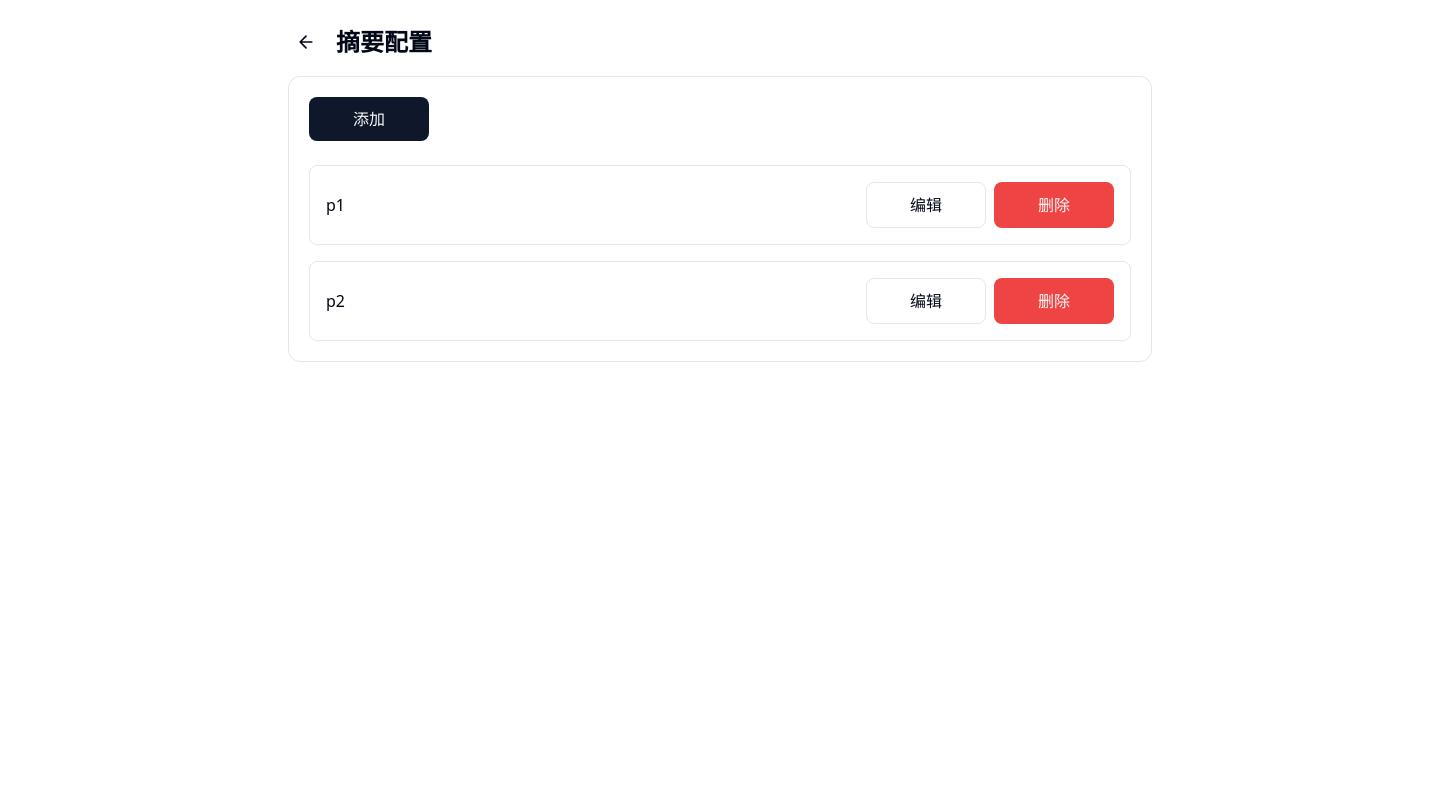
Summary profile management interaction (S014) › Happy path › users can delete profile and it disappears from list
Expected: the text "p1" is shown, [326,193,345,217]
Step 1. Click the button "删除" in the row of "p1" → [1054, 205], box [994,182,1114,228]
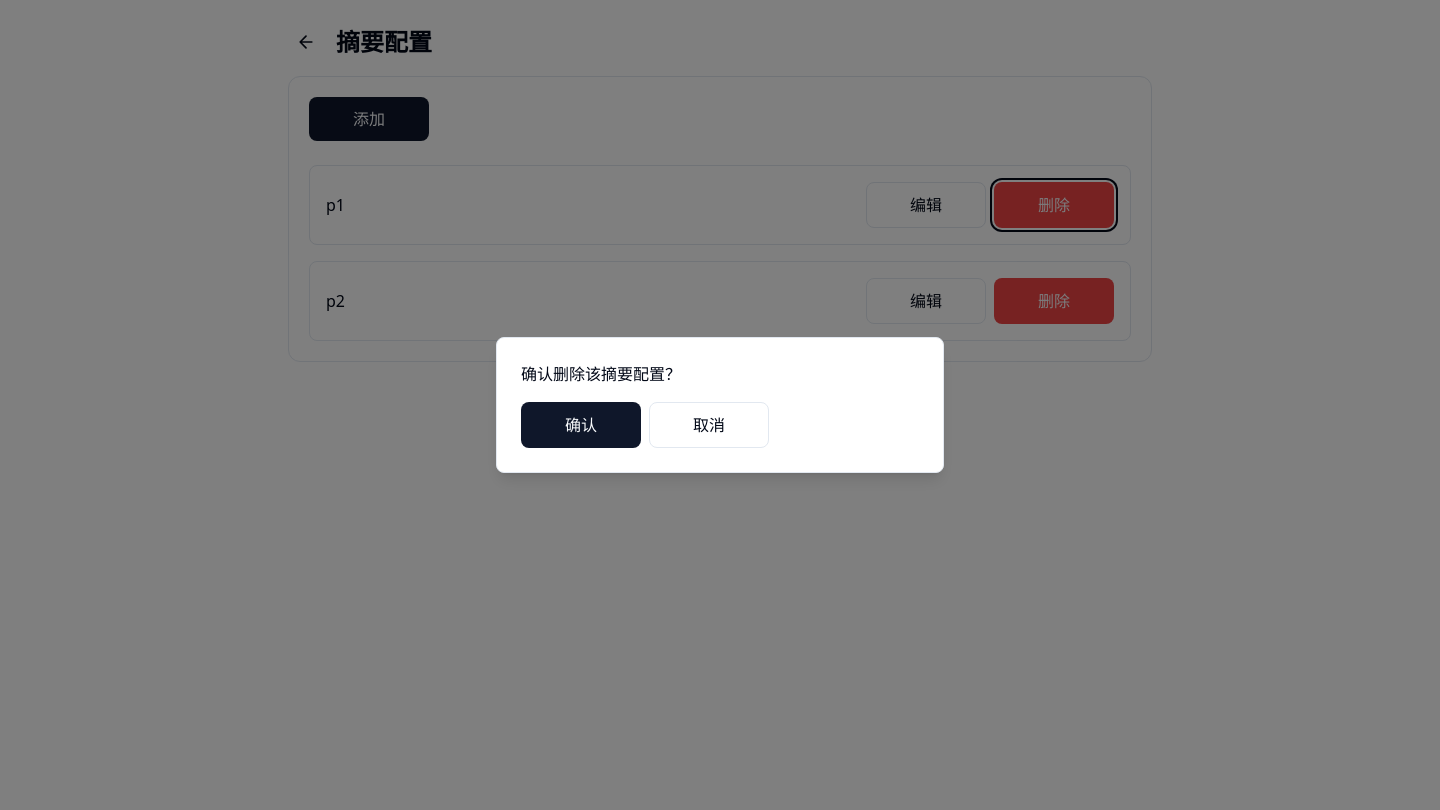
Step 2. Click the button "确认" → [581, 425], box [521,402,641,448]
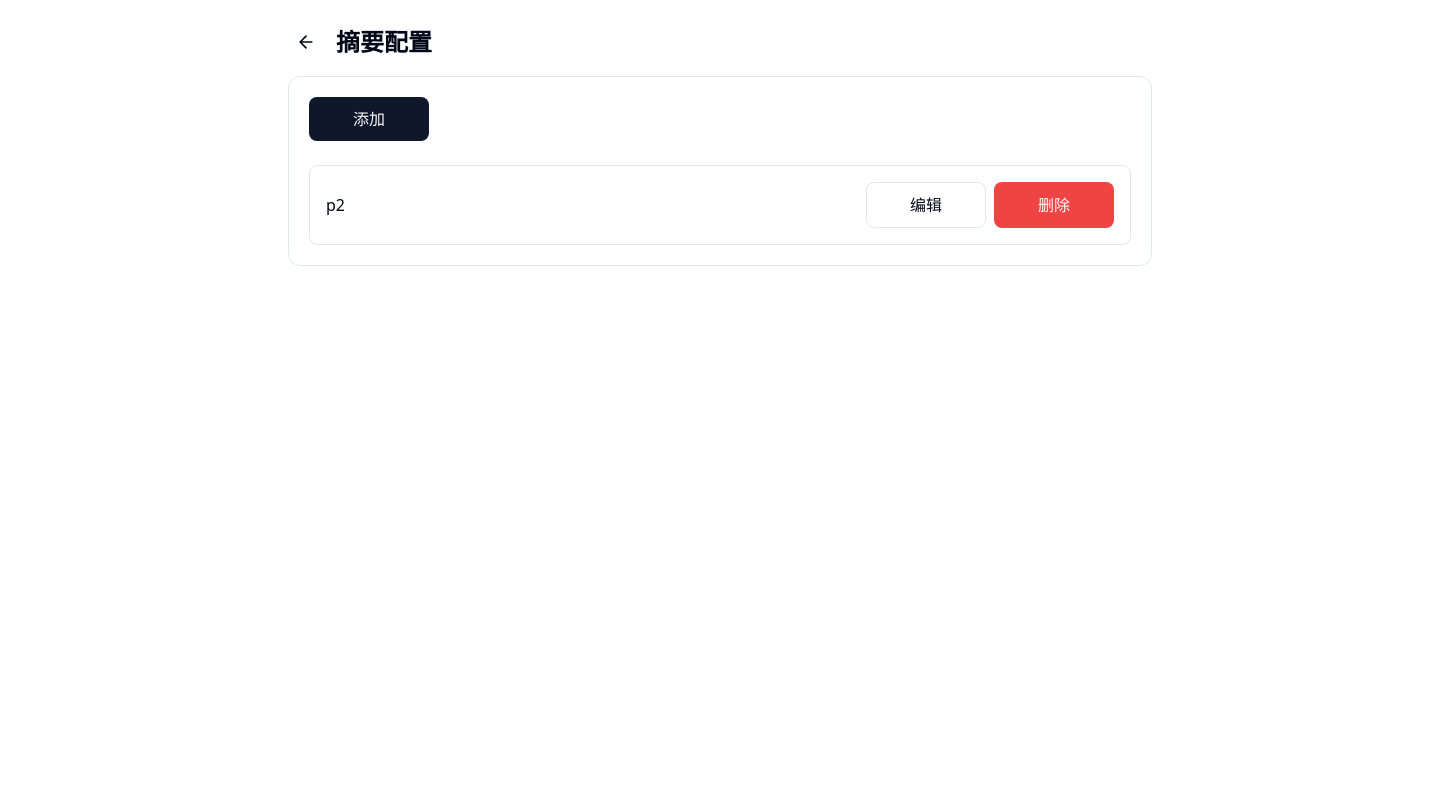
Expected: the text "p2" is shown, [326,193,345,217]
Expected: the text "p1" is gone
